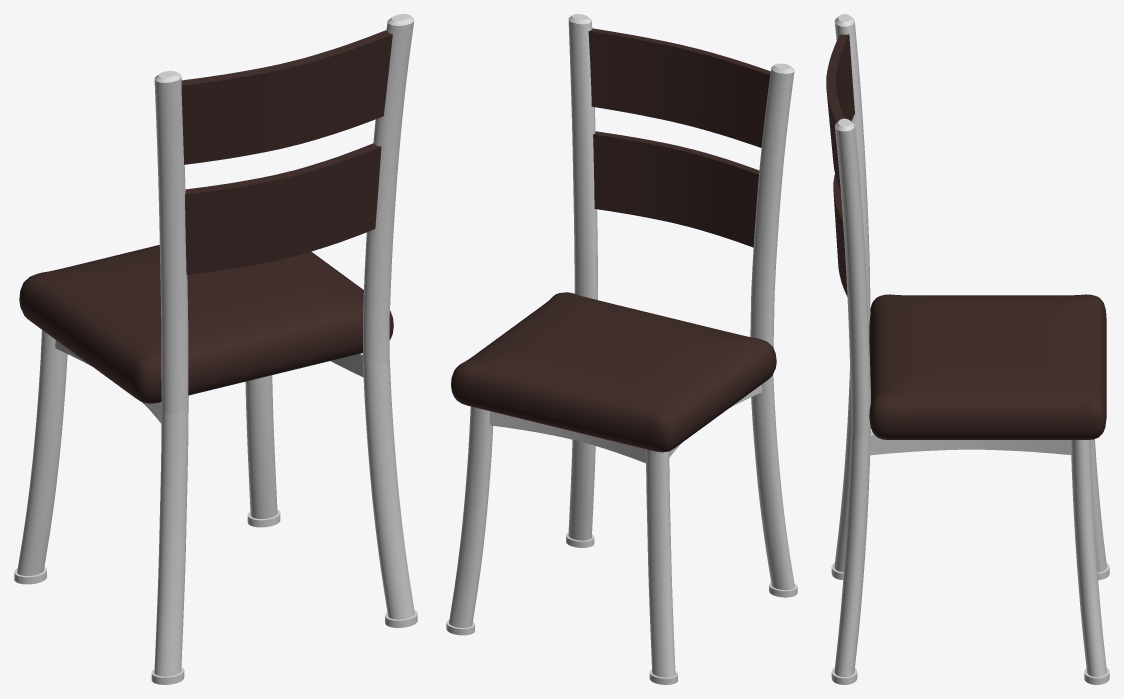
File: Chaise3_4.fbx
The picture shows the model from 3 angles, left to right: view 1: azimuth 30°, elevation 25°; view 2: azimuth 150°, elevation 25°; view 3: azimuth 270°, elevation 25°; orthographic projection. The views are drawn at different scales.
Parts seen in each view (by area): view 1: pCube2672, pCube2679, pCube2680, pCylinder1672, pCylinder1671, pCylinder1667, pCylinder1668, pCylinder1670, pCylinder1669; view 2: pCube2672, pCube2679, pCube2680, pCylinder1672, pCylinder1671, pCylinder1670, pCylinder1669, pCylinder1667, pCylinder1668, pCube2674; view 3: pCube2672, pCylinder1671, pCylinder1668, pCylinder1669, pCube2675, pCube2679, pCylinder1672, pCylinder1667, pCylinder1670, pCube2680.
Boxes of the visible parts, bbox=[...] form: pCube2672: bbox=[19, 245, 393, 403]; pCube2679: bbox=[181, 30, 392, 164]; pCube2680: bbox=[185, 143, 381, 274]; pCylinder1672: bbox=[154, 71, 188, 413]; pCylinder1671: bbox=[363, 14, 414, 364]; pCylinder1667: bbox=[151, 408, 188, 684]; pCylinder1668: bbox=[363, 360, 417, 627]; pCylinder1670: bbox=[14, 330, 67, 584]; pCylinder1669: bbox=[245, 375, 280, 527]; pCube2672: bbox=[451, 292, 776, 452]; pCube2679: bbox=[588, 28, 770, 147]; pCube2680: bbox=[593, 131, 759, 247]; pCylinder1672: bbox=[750, 63, 794, 347]; pCylinder1671: bbox=[568, 14, 597, 299]; pCylinder1670: bbox=[646, 449, 677, 684]; pCylinder1669: bbox=[446, 406, 493, 635]; pCylinder1667: bbox=[751, 374, 797, 597]; pCylinder1668: bbox=[566, 439, 595, 547]; pCube2674: bbox=[489, 411, 645, 463]; pCube2672: bbox=[869, 294, 1106, 439]; pCylinder1671: bbox=[834, 118, 870, 438]; pCylinder1668: bbox=[831, 434, 870, 684]; pCylinder1669: bbox=[1071, 440, 1109, 684]; pCube2675: bbox=[869, 431, 1071, 455]; pCube2679: bbox=[826, 34, 854, 191]; pCylinder1672: bbox=[834, 14, 870, 335]; pCylinder1667: bbox=[831, 369, 850, 579]; pCylinder1670: bbox=[1090, 439, 1109, 579]; pCube2680: bbox=[833, 174, 847, 296].
Bounding box in the file's own units: 39.07 × 85.74 × 39.63.
